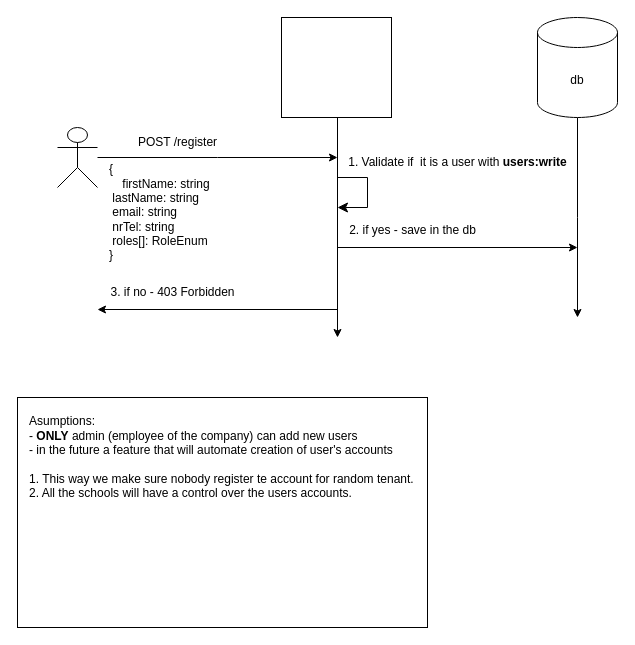
This 635x645 diagram has some shape labels left out. Each missing label, with the centre of its shape:
Actor: (77,157)
Auth Server: (336,67)
